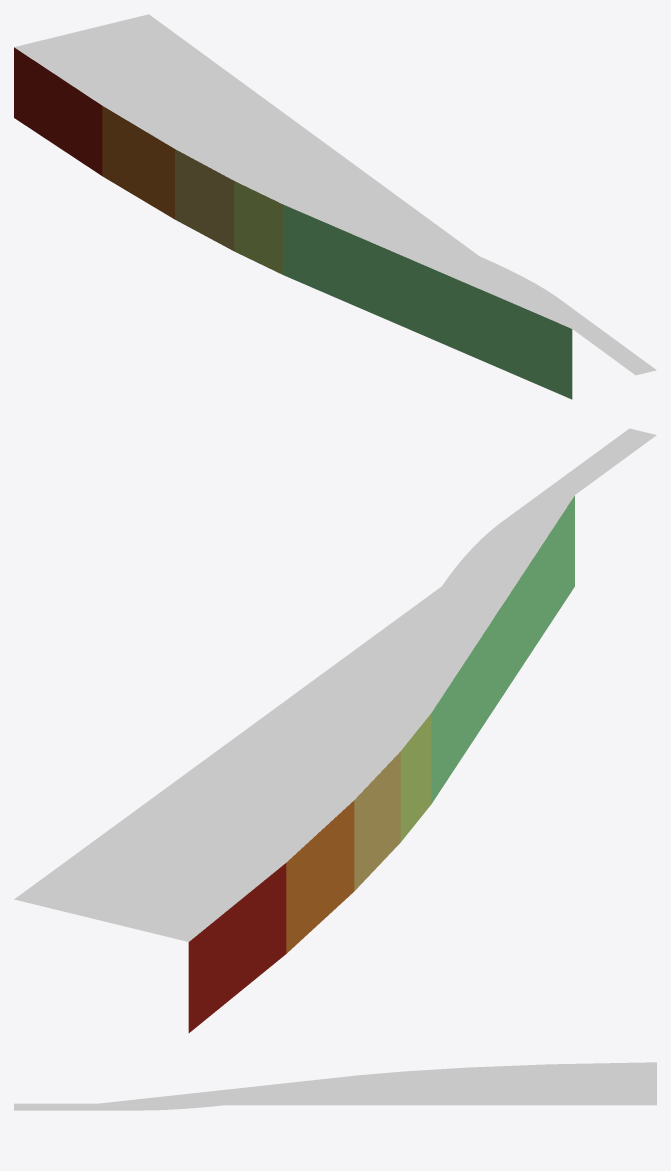
The model's file is scramjet_n5_m14.glb.
3 renders of one model, top to bottom at view 1: azimuth 30°, elevation 25°; view 2: azimuth 150°, elevation 25°; view 3: azimuth 270°, elevation 25°, orthographic. The views are drawn at different scales.
Visible parts, largest first — view 1: Renderer Node; view 2: Renderer Node; view 3: Renderer Node.
Boxes of the visible parts, bbox=[...] form: Renderer Node: bbox=[14, 14, 656, 399]; Renderer Node: bbox=[14, 428, 656, 1032]; Renderer Node: bbox=[14, 1062, 656, 1110].
Bounding box in the file's own units: 1.12 × 0.5005 × 6.31.
